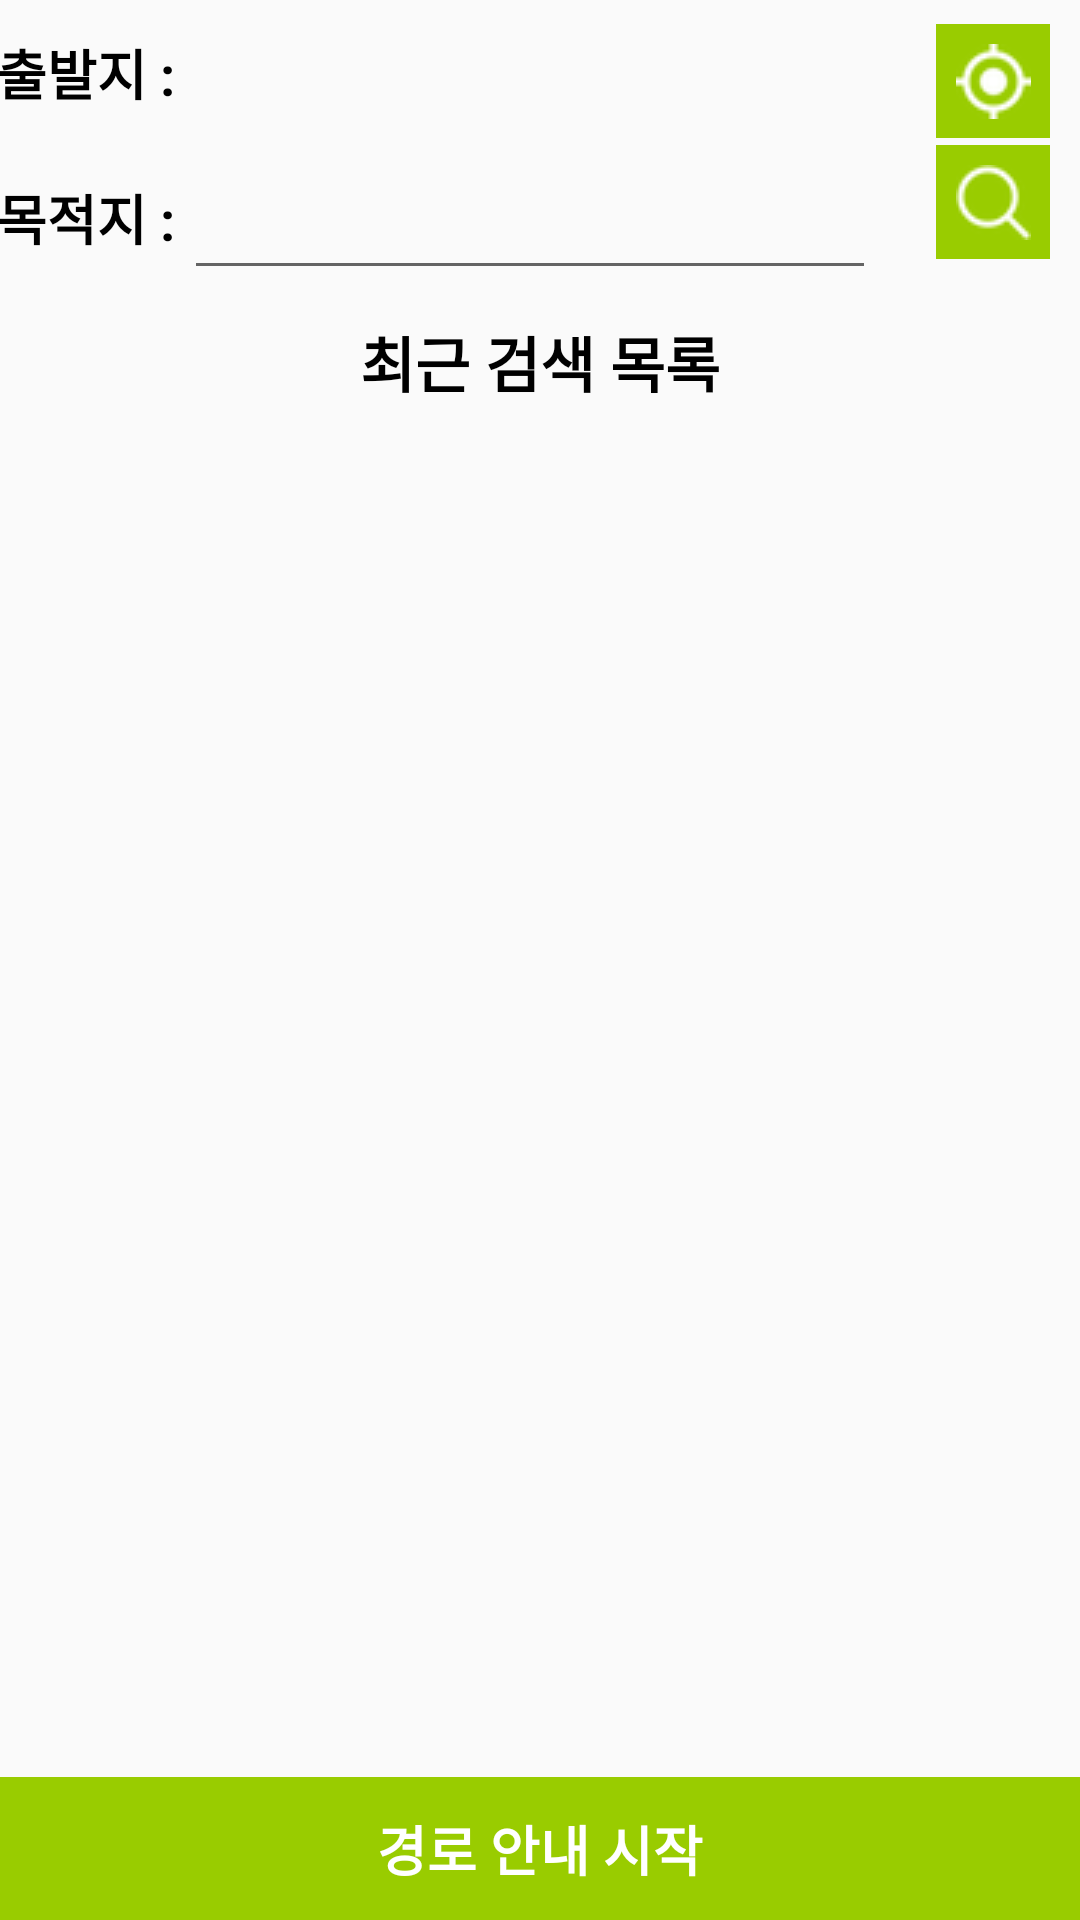

Icons on this 1080 × 1920 Android screen, each with its box as (x1, y1, x2, y2):
location: (936, 24, 1050, 138)
search: (936, 145, 1050, 259)
